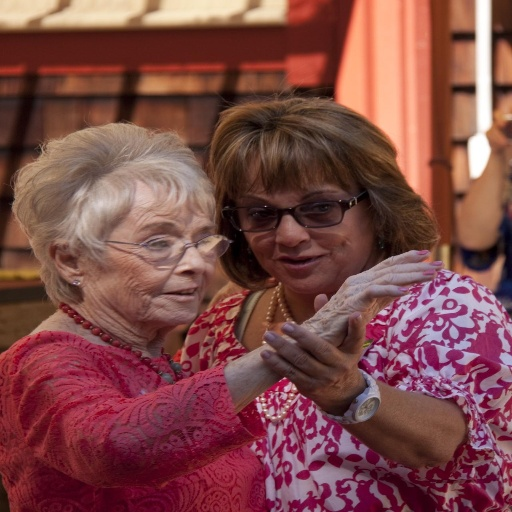hand: (259, 291, 370, 410), (317, 247, 443, 347), (481, 109, 511, 151)
